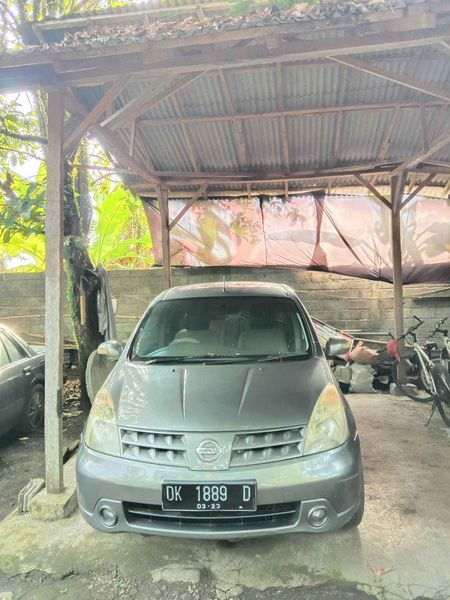plate: (159, 472, 261, 512)
